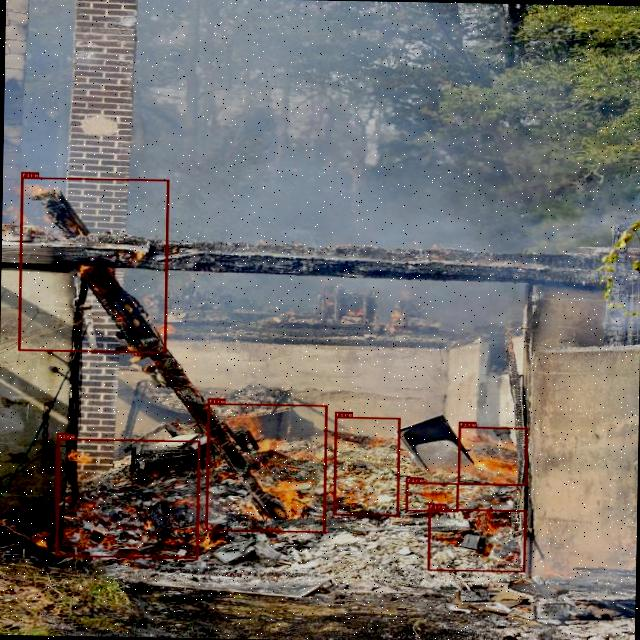fire: (17, 176, 168, 353), (54, 438, 200, 558), (205, 402, 327, 532), (332, 416, 400, 516), (426, 508, 526, 572), (456, 426, 526, 485), (405, 482, 458, 511)
